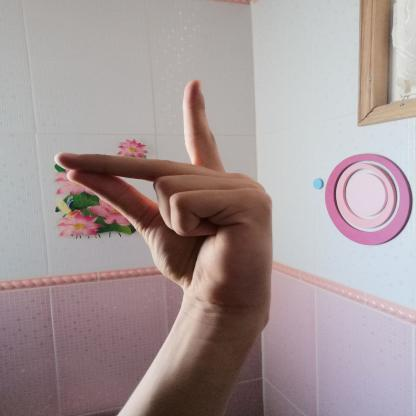TAA: (41, 69, 290, 322)
